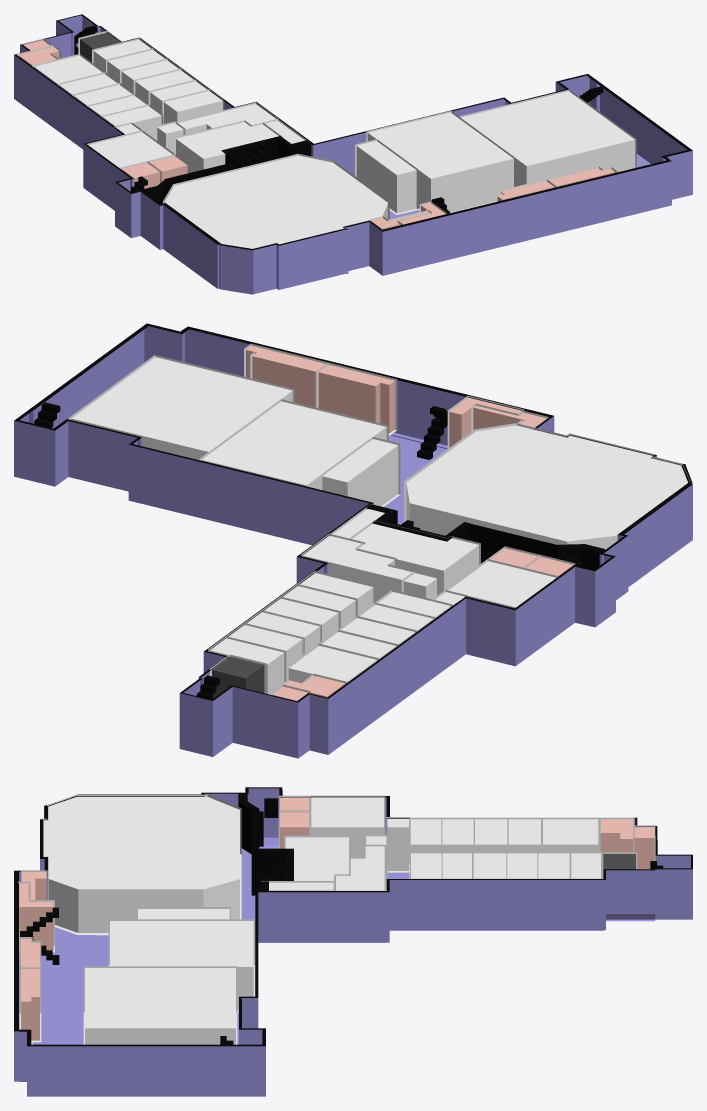
3 renders of one model, top to bottom at view 1: azimuth 30°, elevation 25°; view 2: azimuth 150°, elevation 25°; view 3: azimuth 270°, elevation 25°, orthographic. The views are drawn at different scales.
Visible parts, largest first — view 1: object, room_1_3_1, room_1_3_3, room_1_3_2, room_1_3_19, room_1_3_16, room_1_3_14, room_1_3_18, room_1_3_4, room_1_3_21, room_1_3_10, room_1_3_8 (+17 smaller); view 2: object, room_1_3_1, room_1_3_3, room_1_3_2, room_1_3_16, トイレ_1_3_8, room_1_3_19, room_1_3_18, room_1_3_14, トイレ_1_3_4, room_1_3_21, room_1_3_9 (+17 smaller); view 3: object, room_1_3_1, room_1_3_3, room_1_3_2, room_1_3_14, room_1_3_16, room_1_3_21, room_1_3_18, トイレ_1_3_7, トイレ_1_3_4, room_1_3_20, トイレ_1_3_6 (+22 smaller).
Boxes of the visible parts, x1,y1,x2,y2 form: object: (14,14,692,294); room_1_3_1: (164,155,387,248); room_1_3_3: (461,91,635,186); room_1_3_2: (367,112,513,212); room_1_3_19: (356,141,416,213); room_1_3_16: (176,122,278,172); room_1_3_14: (88,132,172,168); room_1_3_18: (176,104,275,134); room_1_3_4: (164,91,222,123); room_1_3_21: (34,55,102,84); room_1_3_10: (103,106,161,139); room_1_3_8: (107,50,166,83); object: (14,323,692,758); room_1_3_1: (406,425,687,549); room_1_3_3: (71,357,292,459); room_1_3_2: (201,401,386,489); room_1_3_16: (352,523,478,593); トイレ_1_3_8: (318,364,394,433); room_1_3_19: (322,439,398,506); room_1_3_18: (302,536,413,601); room_1_3_14: (448,561,556,608); トイレ_1_3_4: (246,346,325,407); room_1_3_21: (288,646,376,682); room_1_3_9: (210,638,284,694); object: (14,787,692,1096); room_1_3_1: (43,796,239,932); room_1_3_3: (85,968,235,1044); room_1_3_2: (110,921,253,1010); room_1_3_14: (311,797,383,856); room_1_3_16: (285,837,348,890); room_1_3_21: (543,819,598,851); room_1_3_18: (336,846,384,890); トイレ_1_3_7: (19,883,53,950); トイレ_1_3_4: (21,969,39,1040); room_1_3_20: (387,818,408,870); トイレ_1_3_6: (600,819,633,852).
Size of the model in its own units: 2.08 by 0.2 by 2.31.
